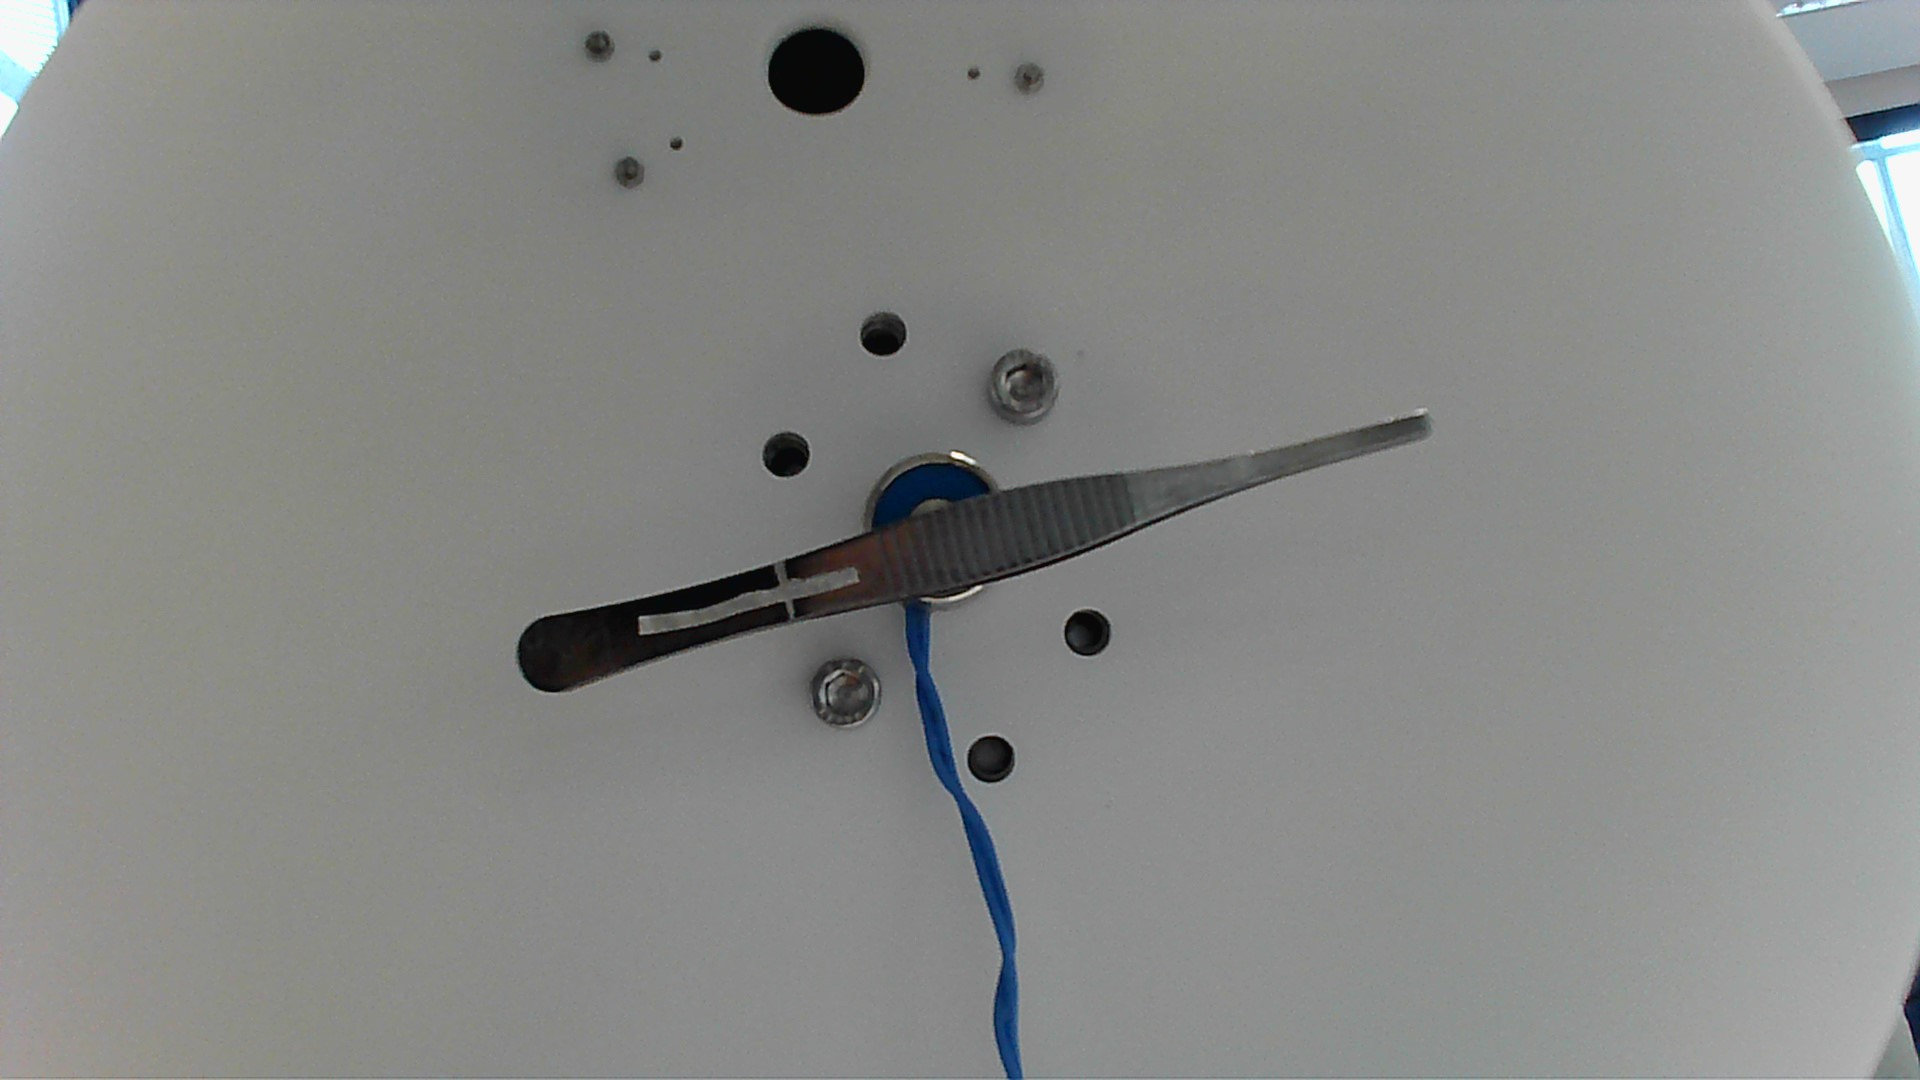Scratches: (632, 563, 869, 640)
